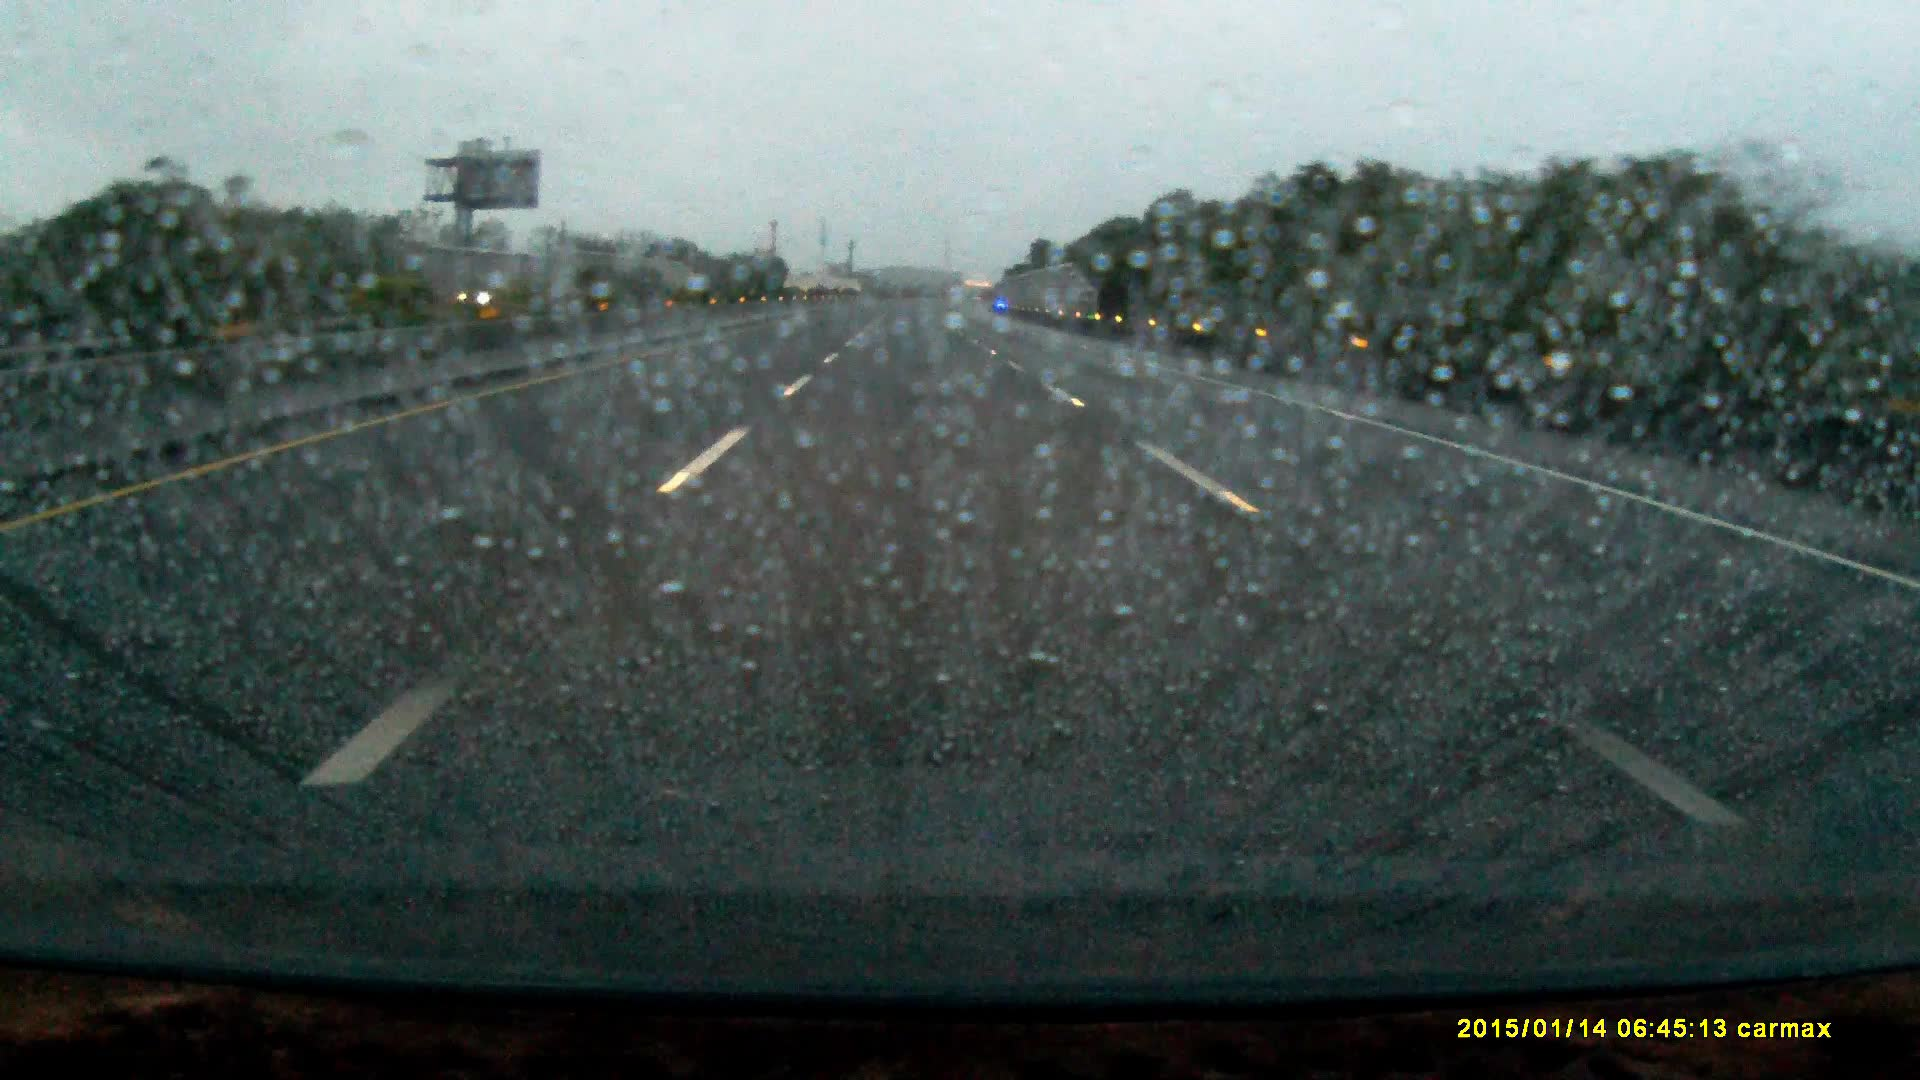vehicle: (458, 266, 560, 313)
